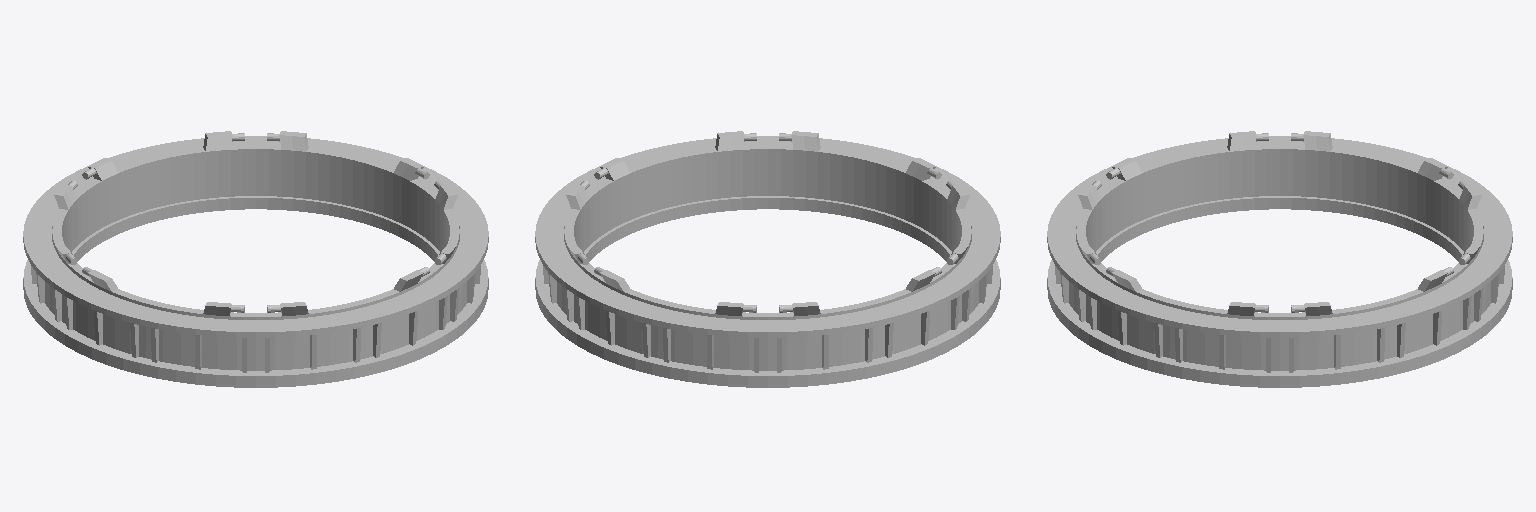
File: Docking ring.obj
The picture shows the model from 3 angles: view 1: azimuth 30°, elevation 25°; view 2: azimuth 150°, elevation 25°; view 3: azimuth 270°, elevation 25°; orthographic projection.
Parts seen in each view (by area): view 1: Mesh, Mesh.007, Mesh.002, Mesh.003, Mesh.004, Mesh.006, Mesh.001, Mesh.005; view 2: Mesh, Mesh.007, Mesh.002, Mesh.003, Mesh.004, Mesh.006, Mesh.001, Mesh.005; view 3: Mesh, Mesh.007, Mesh.002, Mesh.003, Mesh.004, Mesh.006, Mesh.001, Mesh.005.
Boxes of the visible parts, <box> form: Mesh: <box>52,145,459,316</box>; Mesh.007: <box>23,237,488,387</box>; Mesh.002: <box>23,136,488,375</box>; Mesh.003: <box>54,131,457,315</box>; Mesh.004: <box>41,143,470,324</box>; Mesh.006: <box>74,198,437,260</box>; Mesh.001: <box>52,234,459,319</box>; Mesh.005: <box>72,196,439,255</box>; Mesh: <box>564,145,971,316</box>; Mesh.007: <box>535,237,1000,387</box>; Mesh.002: <box>535,136,1000,375</box>; Mesh.003: <box>566,131,969,315</box>; Mesh.004: <box>553,143,982,324</box>; Mesh.006: <box>586,198,949,260</box>; Mesh.001: <box>564,234,971,319</box>; Mesh.005: <box>584,196,951,255</box>; Mesh: <box>1076,145,1483,316</box>; Mesh.007: <box>1047,237,1512,387</box>; Mesh.002: <box>1047,136,1512,375</box>; Mesh.003: <box>1078,131,1481,315</box>; Mesh.004: <box>1065,143,1494,324</box>; Mesh.006: <box>1098,198,1461,260</box>; Mesh.001: <box>1076,234,1483,319</box>; Mesh.005: <box>1096,196,1463,255</box>.
Size of the model in its own units: 0.9144 by 0.1588 by 0.9144.